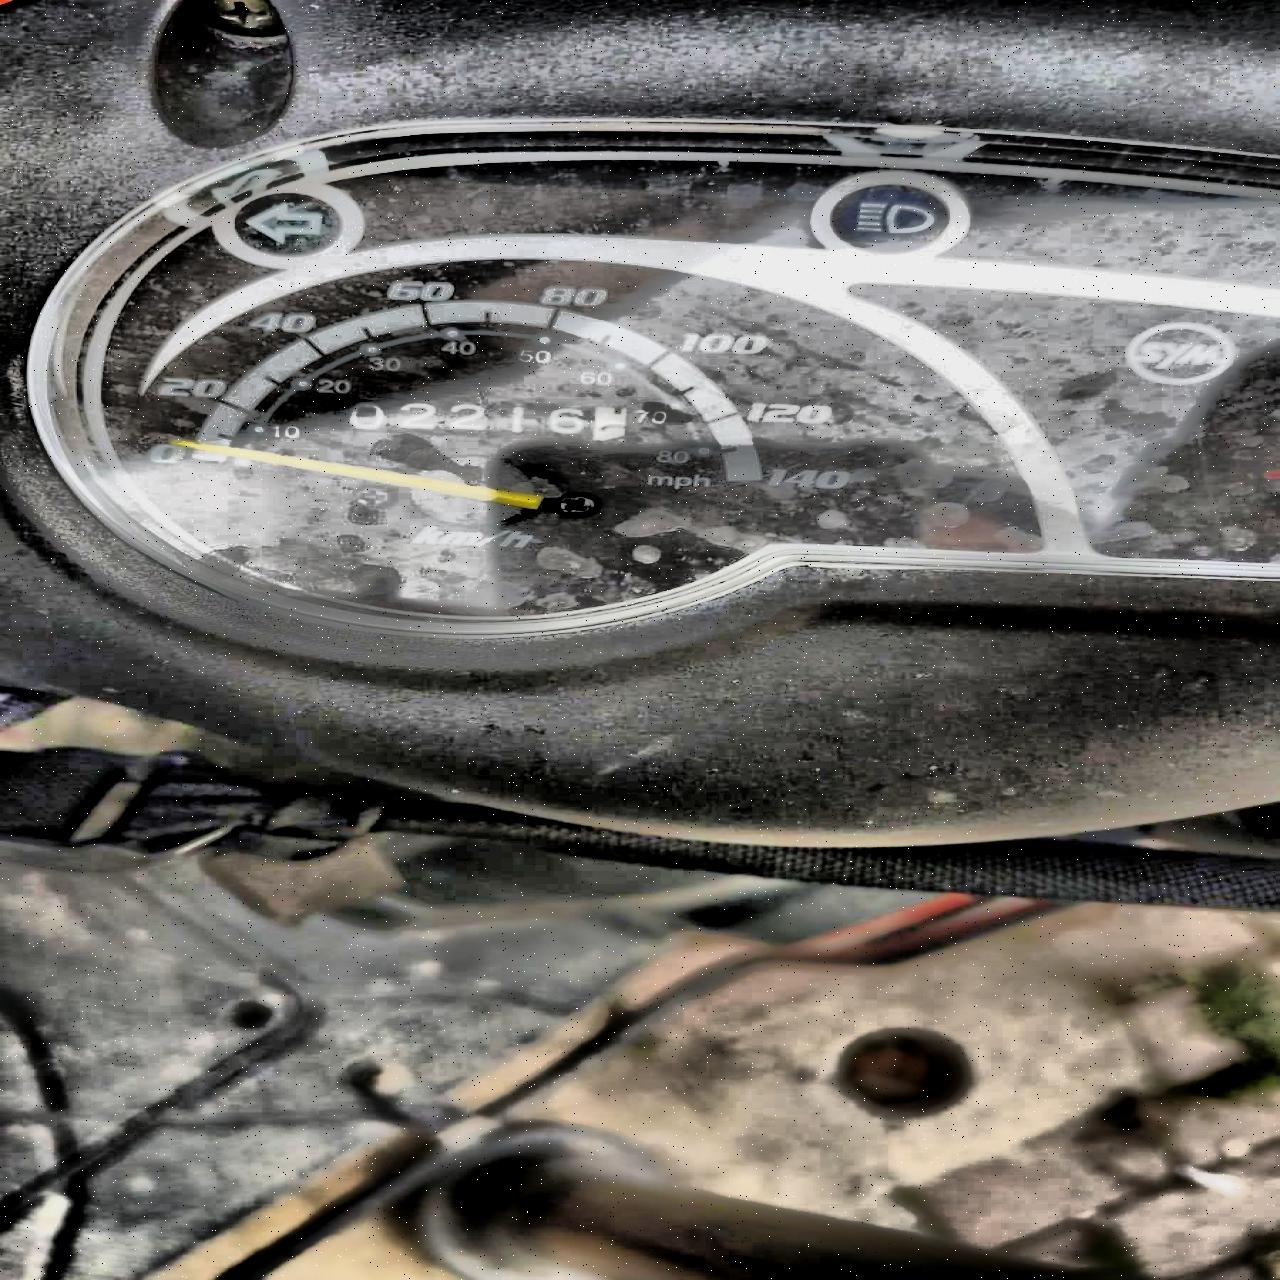0: (347, 399, 386, 429)
1: (504, 403, 525, 434)
2: (397, 399, 437, 430), (447, 401, 486, 431), (595, 421, 629, 444)
6: (546, 404, 590, 434)
odometer: (327, 395, 636, 445)
